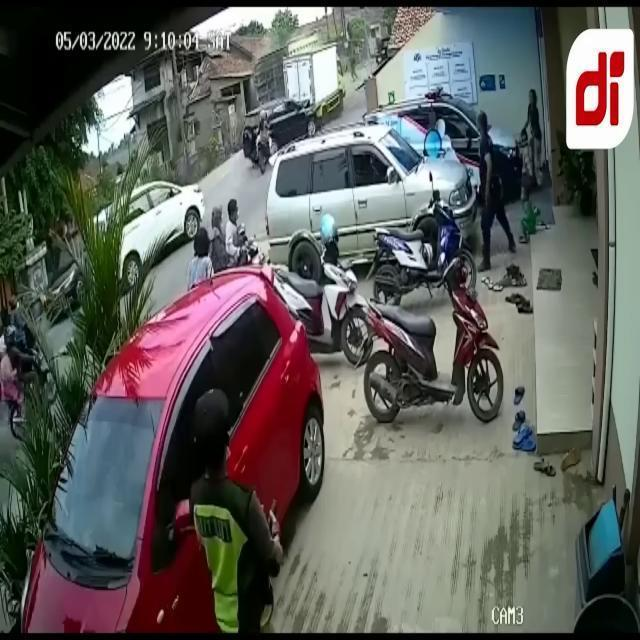accident: (242, 42, 346, 174)
non-accident: (19, 197, 374, 636), (363, 186, 505, 424)
